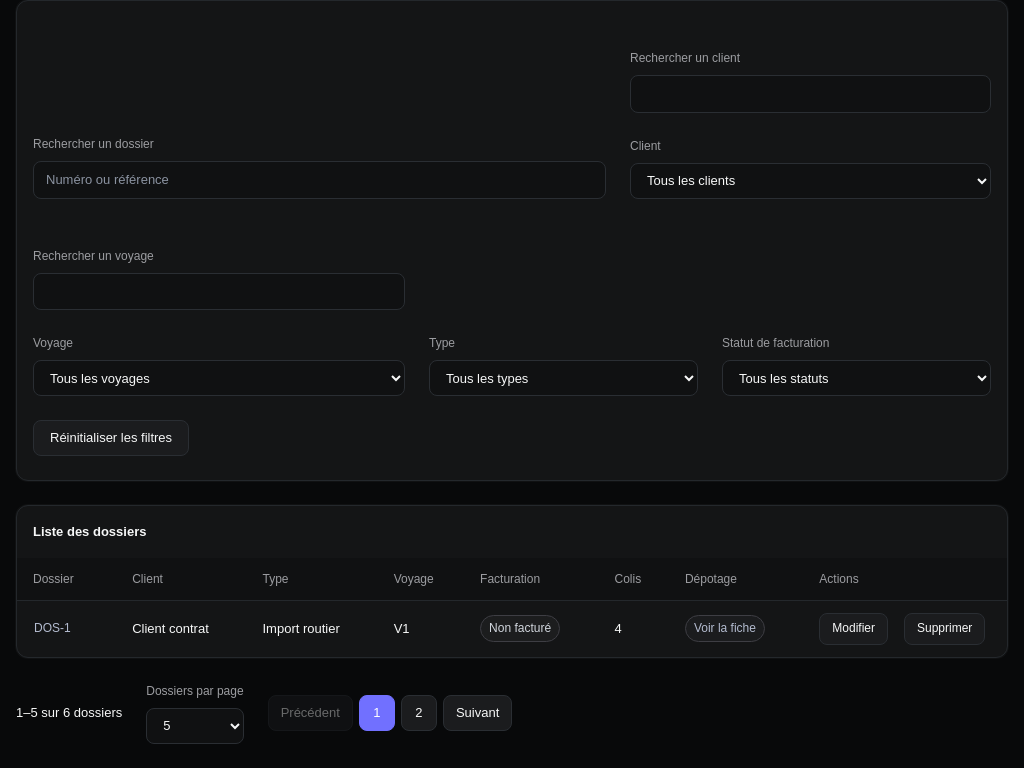
Scenario: Dossiers API presentation › blocks repeated writes after a lost confirmation and offers verification
The image size is (1024, 768).
(page scrolled)
Click the button named "Modifier DOS-1".
click(854, 629)  # box [819,613,888,645]
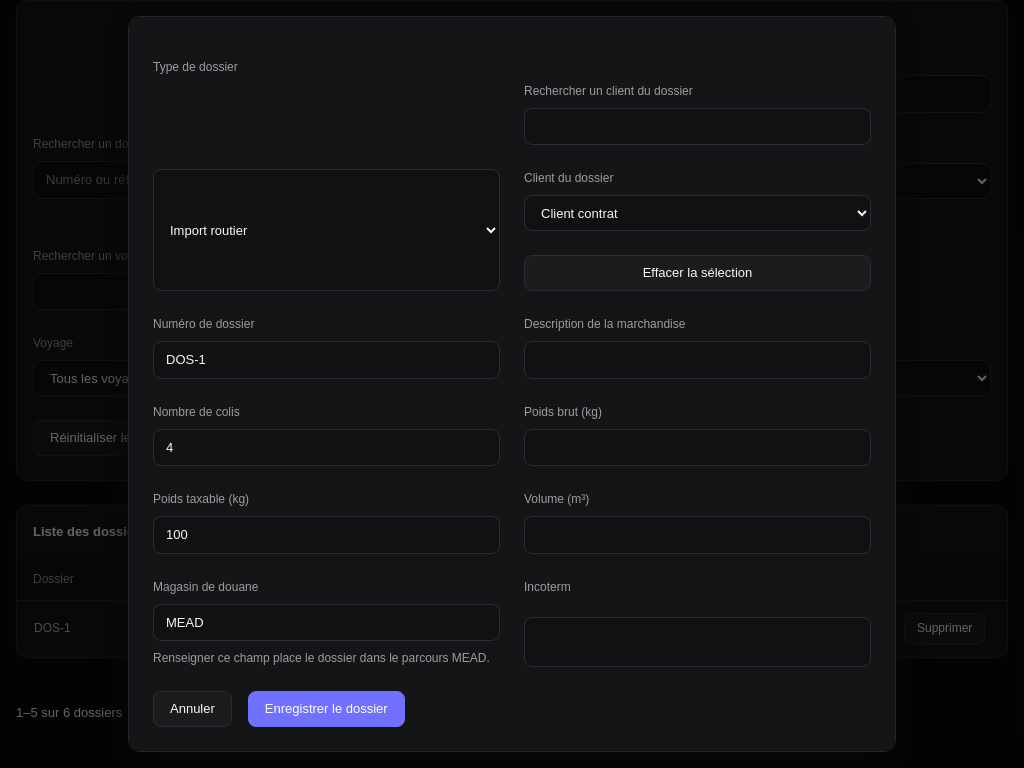
Now the field labelled "Numéro de dossier" is shown, box [153,341,500,379]
Now the button "Enregistrer le dossier" is enabled
Click the button "Enregistrer le dossier".
click(326, 709)  # box [248,691,405,727]
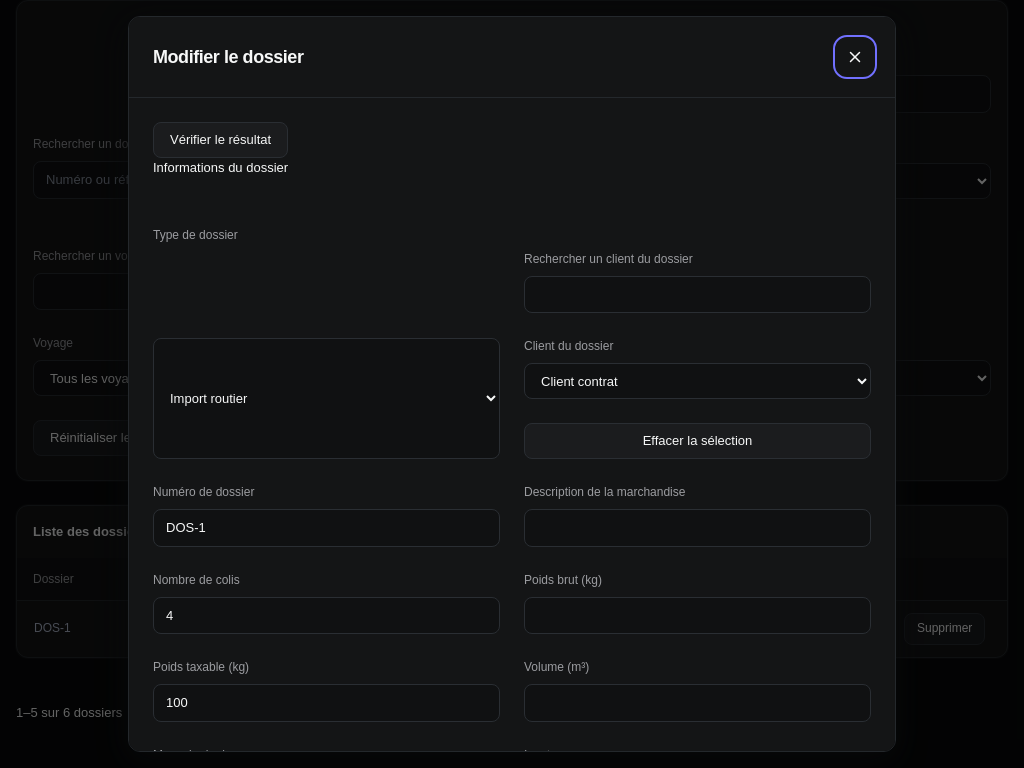
Now the button "Vérifier le résultat" is shown
Click the button "Vérifier le résultat".
click(221, 140)  # box [153,122,288,158]
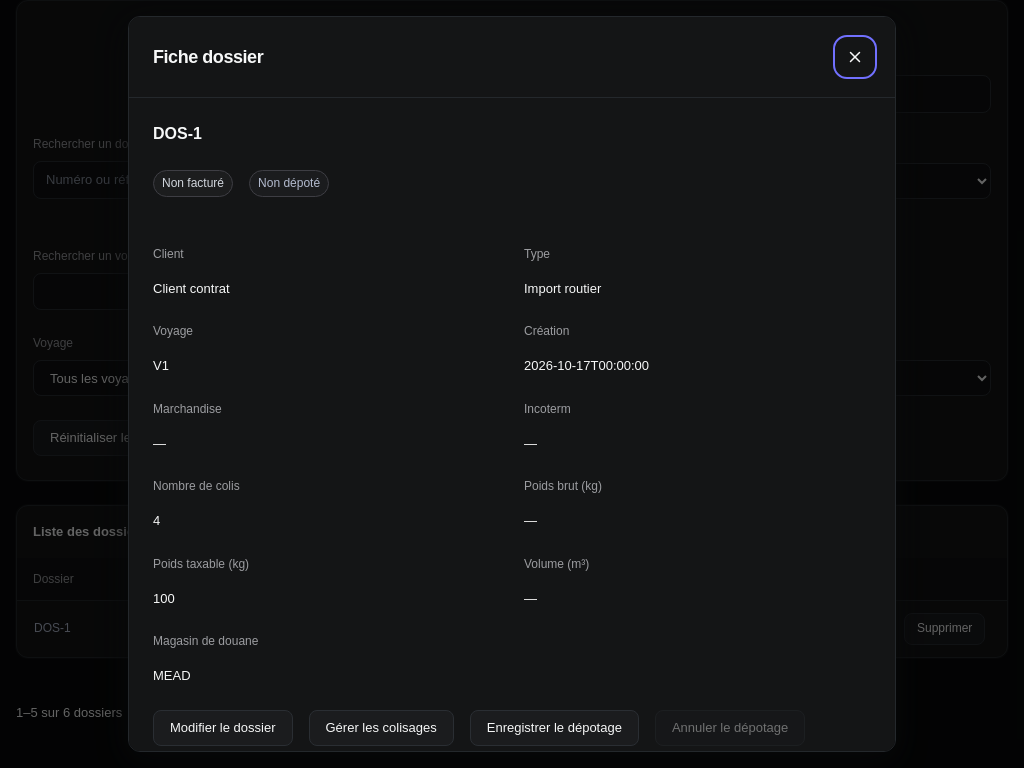
Now the dialog "Fiche dossier" is shown
